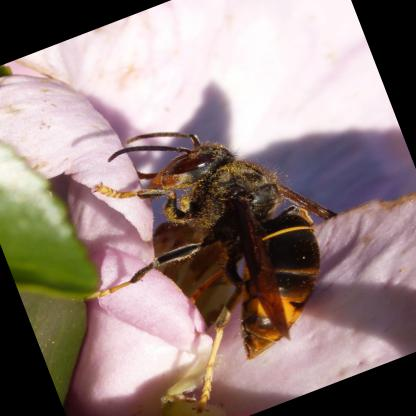asian: (15, 68, 362, 415)
